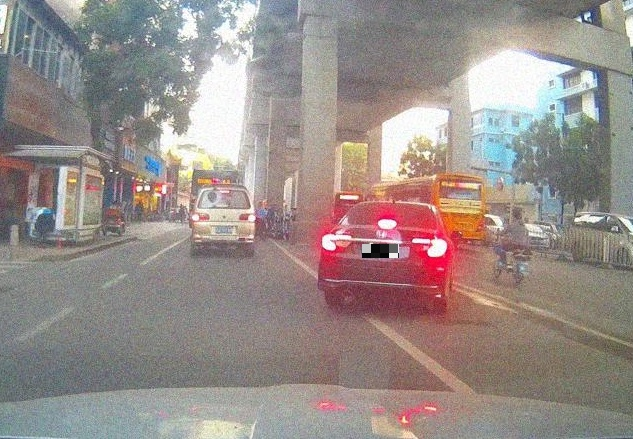L_light: (321, 233, 351, 251), (192, 213, 210, 221)
R_light: (411, 238, 447, 258), (239, 213, 254, 221)
T_light: (378, 219, 397, 230), (220, 190, 229, 193)
day-brake: (191, 183, 255, 257)
day-right: (318, 201, 448, 312)
plate_1: (362, 244, 399, 258)
